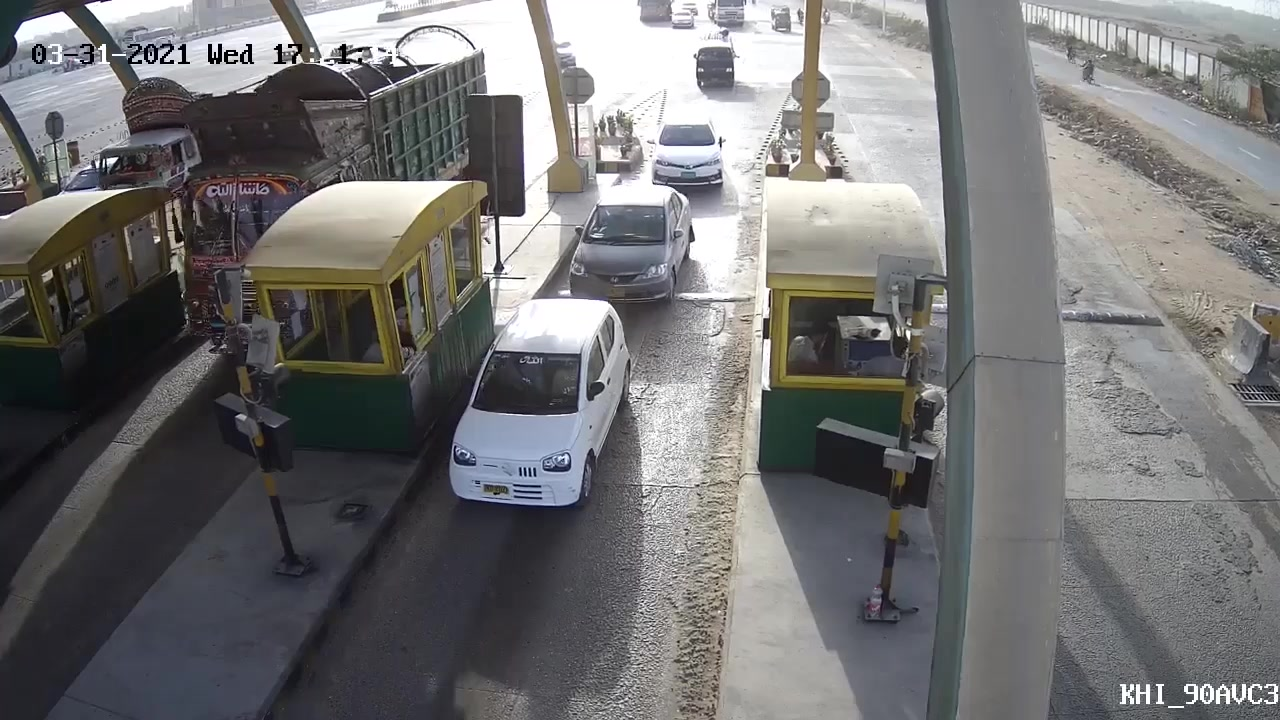F1: (440, 296, 634, 511), (557, 178, 697, 303)
